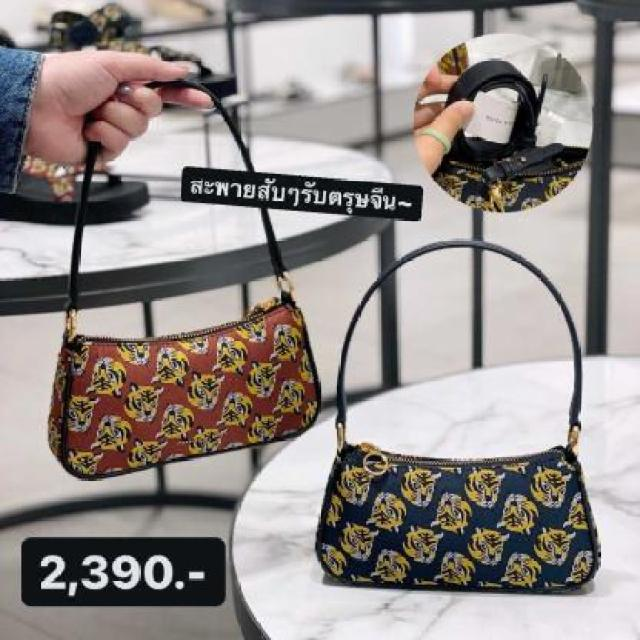Bag: (24, 71, 325, 502), (299, 226, 613, 614)
